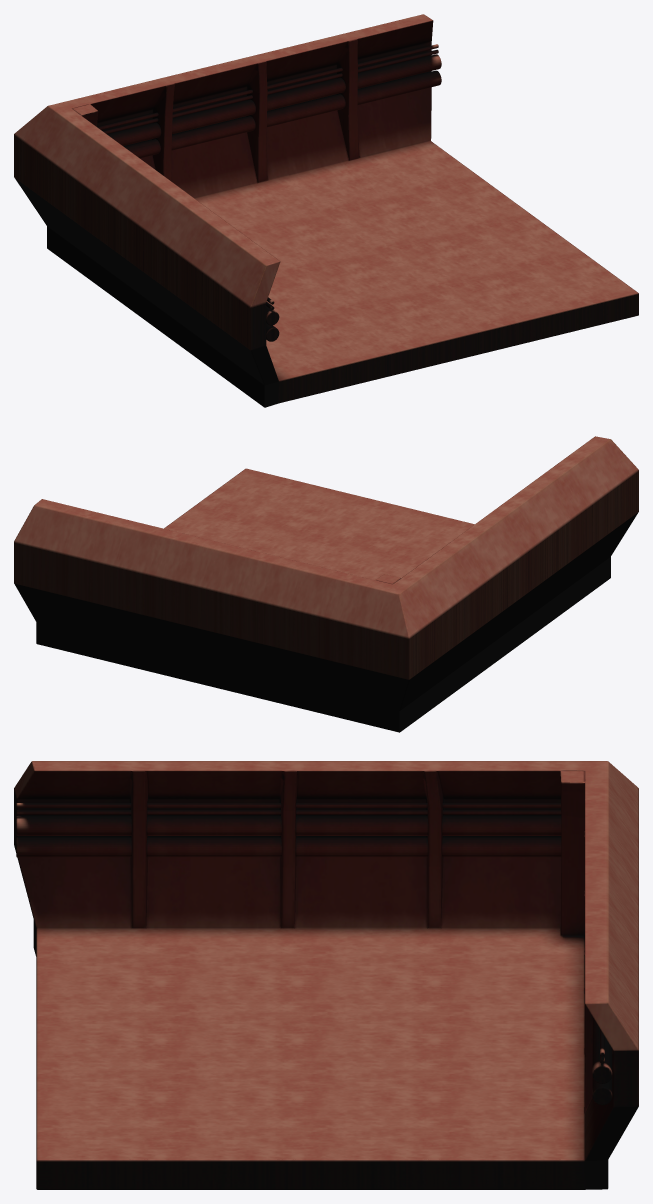
File: my_ship.glb
The picture shows the model from 3 angles, top to bottom: view 1: azimuth 30°, elevation 25°; view 2: azimuth 150°, elevation 25°; view 3: azimuth 270°, elevation 25°; orthographic projection. The views are drawn at different scales.
Visible parts, largest first — view 1: Cube; view 2: Cube; view 3: Cube.
Boxes of the visible parts, x1,y1,x2,y2 form: Cube: (14, 14, 638, 407); Cube: (14, 436, 638, 732); Cube: (14, 761, 638, 1189).
Size of the model in its own units: 9.12 by 3.03 by 9.12.
1 material, 1 textured.
